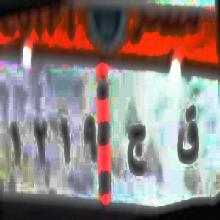1: (6, 107, 27, 176), (57, 108, 73, 175)
2: (32, 114, 49, 177)
9: (82, 106, 100, 173)
jeem: (126, 114, 150, 189)
qaaf: (174, 100, 202, 172)
